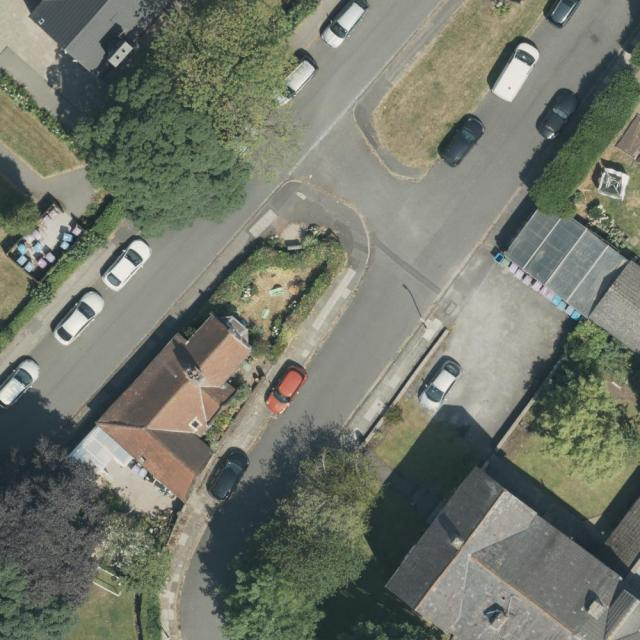roof: (385, 463, 640, 640), (72, 311, 253, 505), (503, 193, 640, 356), (31, 0, 181, 75)
skylight: (73, 423, 137, 476), (187, 415, 204, 434)
